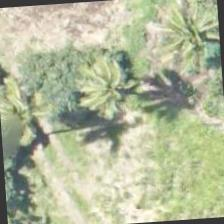Kelapa_Sawit: (69, 44, 166, 140), (0, 92, 85, 188), (143, 0, 223, 80)
